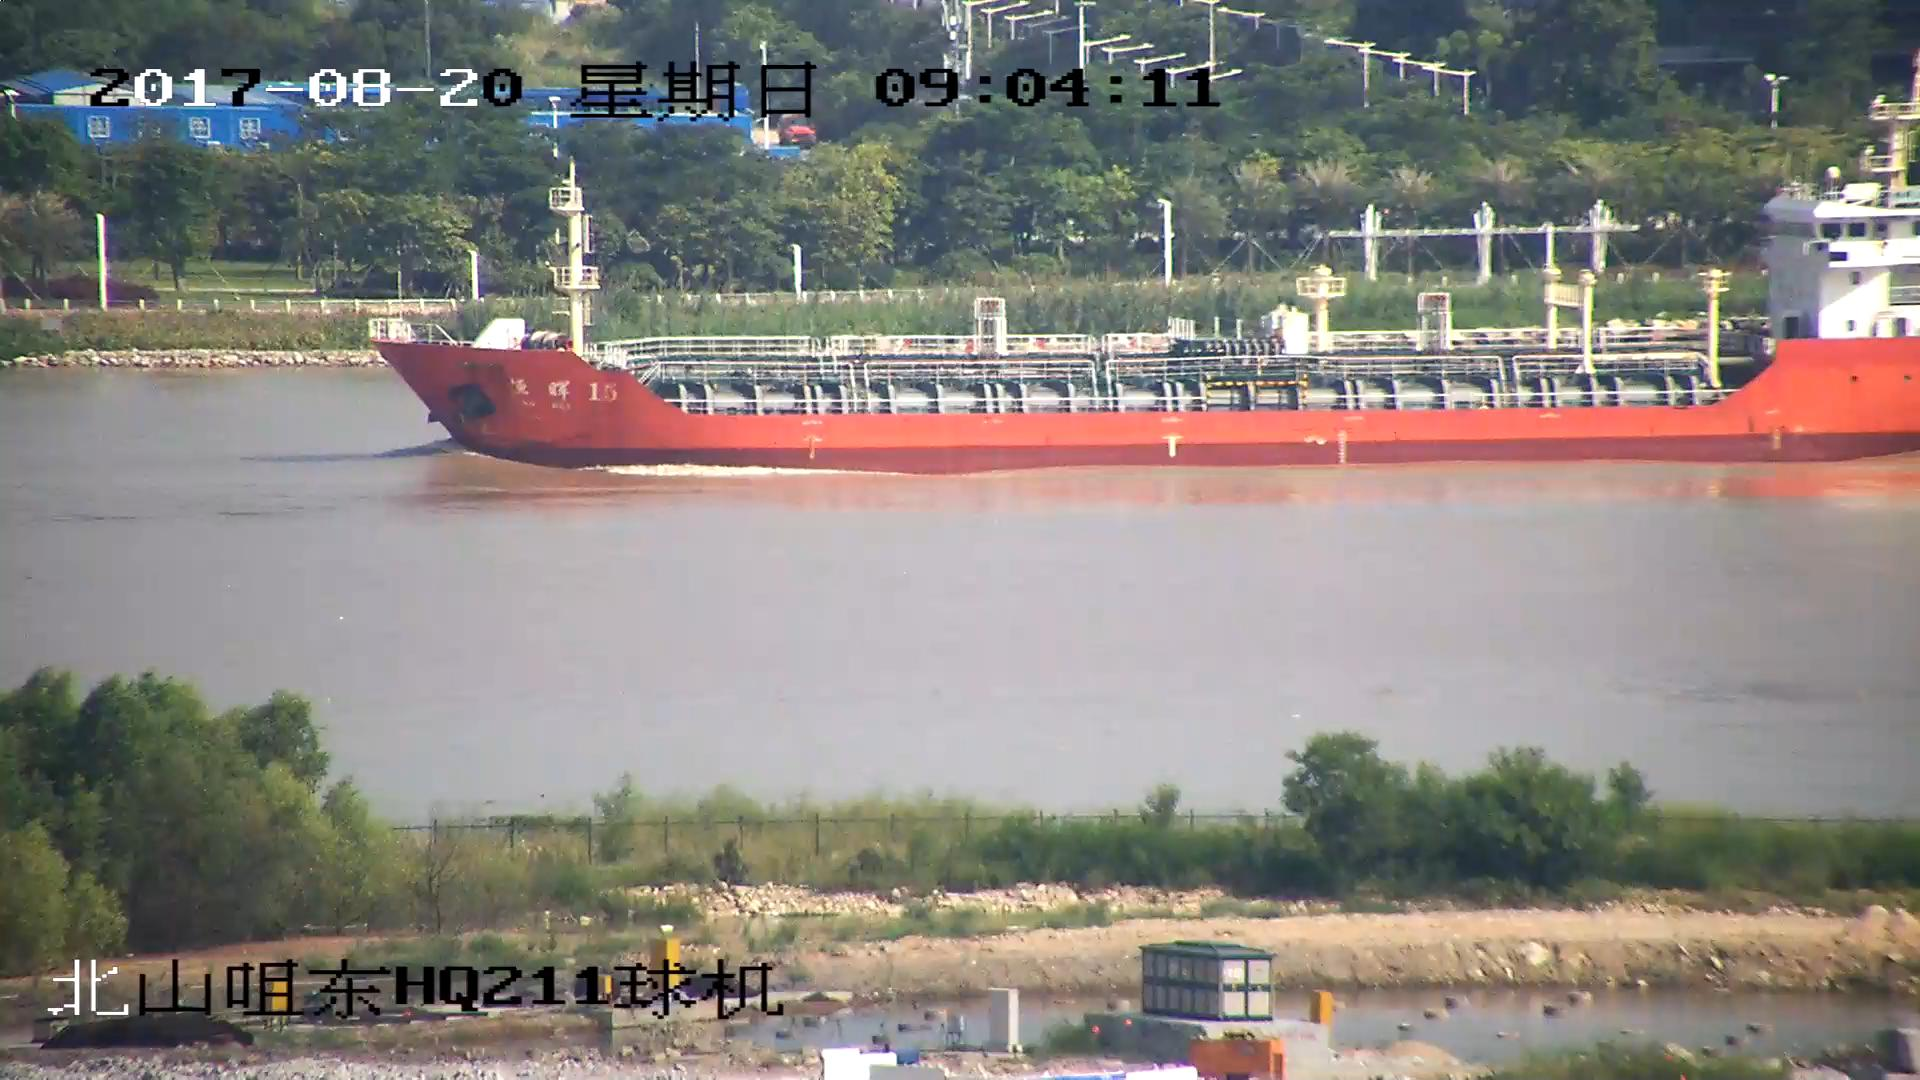general cargo ship: (367, 112, 1920, 472)
